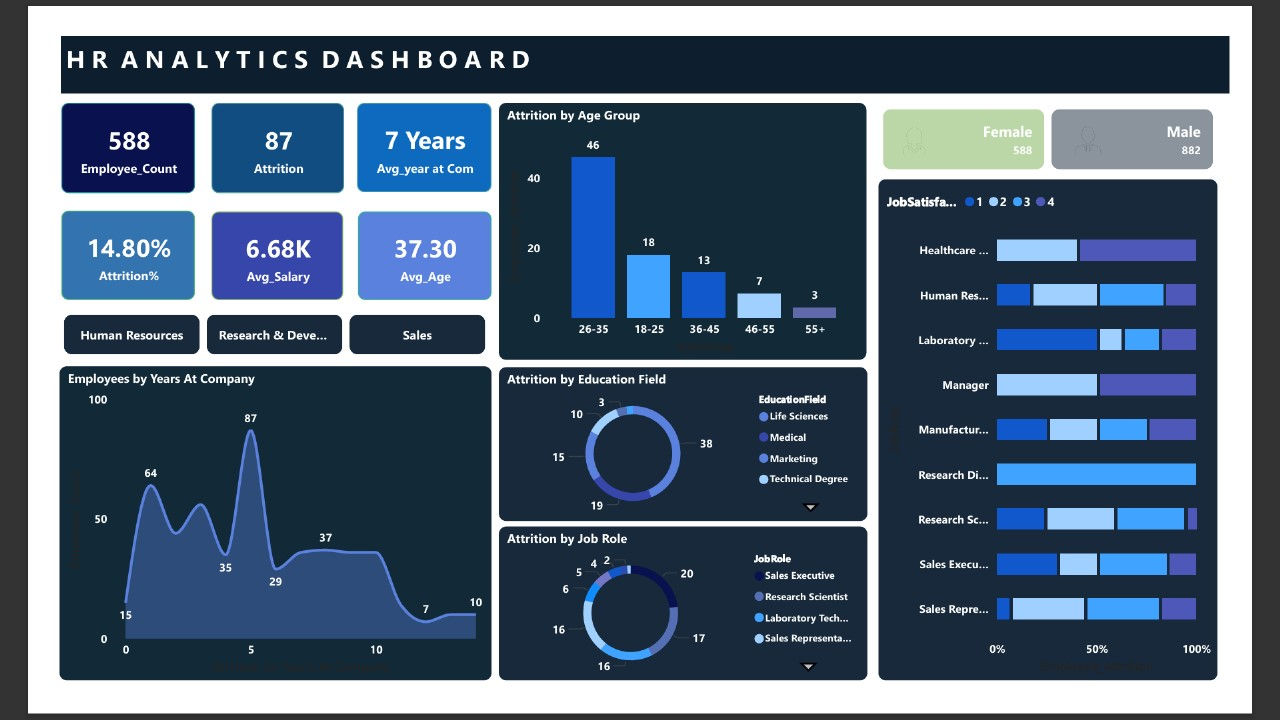

This screenshot's page, from the dashboard's own definition file:
{"tool":"powerbi","page":{"name":"Page 1","canvas":[1280,720],"ordinal":0},"visuals":[{"type":"image","box":[1106.4,97.5,40.8,50.1],"z":0},{"type":"image","box":[918,101.2,39.9,42.7],"z":1000},{"type":"card","fields":{"Values":["New Measures.Employee_Attrition"]},"box":[174.6,80.8,144.7,97.8],"z":2000},{"type":"card","fields":{"Values":["New Measures.Employee_Count"]},"box":[12,80.8,144.7,97.8],"z":3000},{"type":"card","fields":{"Values":["New Measures.Years_With_Text"]},"box":[333.2,80.8,145.7,97.5],"z":4000},{"type":"card","fields":{"Values":["New Measures.Attrition%"]},"box":[12,197.5,144.7,97.8],"z":5000},{"type":"card","fields":{"Values":["New Measures.Avg_Salary"]},"box":[174.6,198.5,143.7,96.8],"z":6000},{"type":"card","fields":{"Values":["New Measures.Avg_Age"]},"box":[334.2,198.5,144.7,96.8],"z":7000},{"type":"areaChart","title":"Employees by Years At Company","fields":{"Y":["New Measures.Employee_Count"],"Category":["HR_Analytics.YearsAtCompany"]},"box":[9.9,367.2,469.3,341.2],"z":8000},{"type":"donutChart","title":"Attrition by Education Field","fields":{"Y":["New Measures.Employee_Attrition"],"Category":["HR_Analytics.EducationField"]},"box":[487.3,367.6,400.1,167.1],"z":9000},{"type":"clusteredColumnChart","title":"Attrition by Age Group","fields":{"Category":["HR_Analytics.AgeGroup"],"Y":["New Measures.Employee_Attrition"]},"box":[487.3,80.8,399.1,279.4],"z":10000},{"type":"hundredPercentStackedBarChart","fields":{"Y":["New Measures.Employee_Attrition"],"Series":["HR_Analytics.JobSatisfaction"],"Category":["HR_Analytics.JobRole"]},"box":[898.5,164.3,368.5,543.9],"z":11000},{"type":"advancedSlicerVisual","fields":{"Values":["HR_Analytics.Gender"]},"box":[898.5,82.6,368.5,75.2],"z":12000},{"type":"advancedSlicerVisual","fields":{"Values":["HR_Analytics.Department"]},"box":[9.9,306.3,469.3,53.7],"z":13000},{"type":"textbox","box":[12.1,9.3,527.2,61.3],"z":14000},{"type":"donutChart","title":"Attrition by Job Role","fields":{"Y":["New Measures.Employee_Attrition"],"Category":["HR_Analytics.JobRole"]},"box":[487.3,541.1,400.1,167.1],"z":15000}]}

Visuals, with their boxes in screenshot pixels (x1, y1, x2, y2), scaled from the page's 1280x720 canvas onto the 1280x720 screenshot:
image: region(1106, 98, 1147, 148)
image: region(918, 101, 958, 144)
card - New Measures.Employee_Attrition: region(175, 81, 319, 179)
card - New Measures.Employee_Count: region(12, 81, 157, 179)
card - New Measures.Years_With_Text: region(333, 81, 479, 178)
card - New Measures.Attrition%: region(12, 198, 157, 295)
card - New Measures.Avg_Salary: region(175, 198, 318, 295)
card - New Measures.Avg_Age: region(334, 198, 479, 295)
"Employees by Years At Company" areaChart: region(10, 367, 479, 708)
"Attrition by Education Field" donutChart: region(487, 368, 887, 535)
"Attrition by Age Group" clusteredColumnChart: region(487, 81, 886, 360)
hundredPercentStackedBarChart - New Measures.Employee_Attrition x HR_Analytics.JobSatisfaction: region(898, 164, 1267, 708)
advancedSlicerVisual - HR_Analytics.Gender: region(898, 83, 1267, 158)
advancedSlicerVisual - HR_Analytics.Department: region(10, 306, 479, 360)
textbox: region(12, 9, 539, 71)
"Attrition by Job Role" donutChart: region(487, 541, 887, 708)
